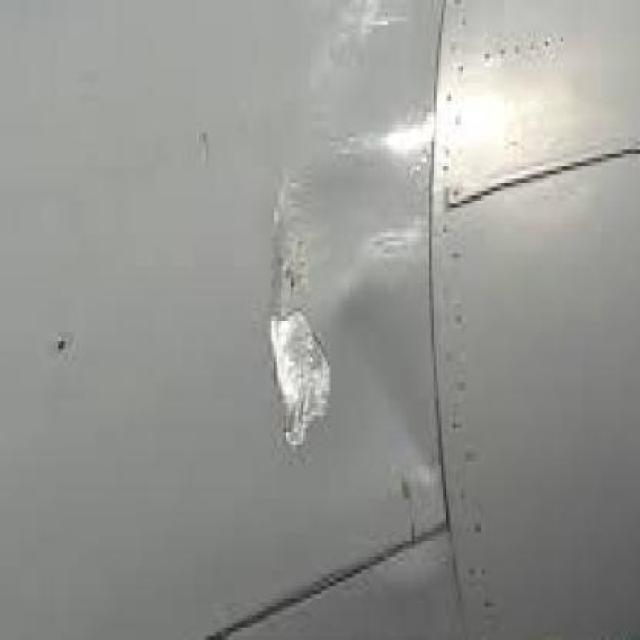dent: (266, 171, 341, 458)
